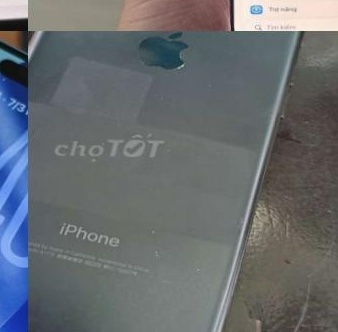scratch: (28, 234, 222, 332), (123, 31, 220, 107), (229, 209, 247, 237), (140, 219, 162, 235)
